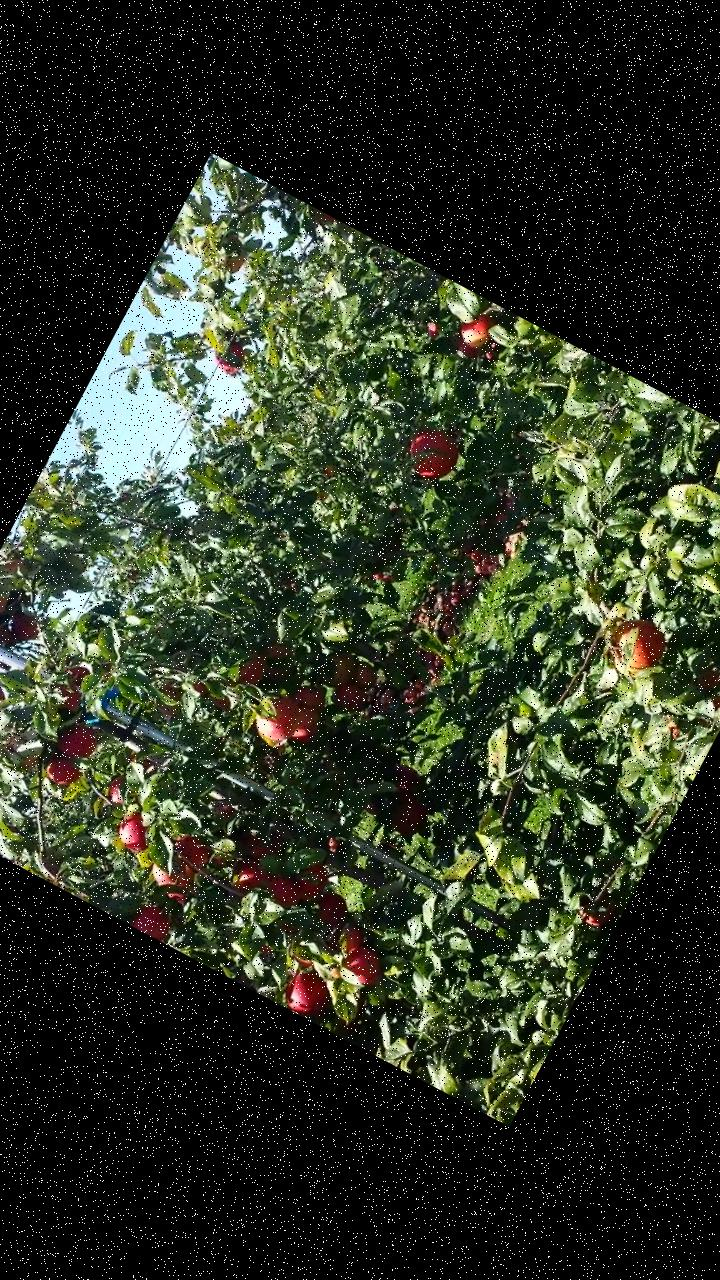Apple: (594, 603, 678, 689), (393, 416, 467, 491), (274, 956, 338, 1021), (245, 688, 308, 752), (334, 938, 394, 998), (106, 798, 162, 855), (50, 711, 106, 767), (371, 752, 426, 806), (572, 882, 627, 936), (222, 640, 274, 694), (36, 746, 90, 796), (451, 304, 502, 356), (380, 791, 432, 842), (222, 852, 275, 902), (312, 643, 363, 694), (684, 650, 719, 722), (142, 844, 192, 894), (322, 674, 372, 724), (308, 882, 358, 932), (145, 672, 193, 724), (204, 334, 254, 382), (259, 869, 309, 917), (165, 827, 215, 873), (288, 856, 333, 905), (286, 676, 336, 720), (1, 604, 47, 650), (284, 704, 328, 751), (324, 919, 369, 964), (130, 898, 176, 942), (98, 768, 140, 813), (253, 630, 298, 670), (0, 546, 38, 593), (52, 655, 96, 694), (241, 824, 282, 864), (346, 655, 386, 694), (42, 676, 84, 712), (446, 330, 486, 365), (119, 746, 158, 780), (200, 842, 236, 878), (417, 312, 449, 347), (654, 711, 689, 743), (283, 941, 317, 970), (0, 572, 19, 623), (184, 675, 215, 705), (219, 248, 248, 279), (158, 882, 190, 908), (0, 616, 22, 653), (474, 336, 503, 364), (174, 863, 200, 893), (0, 670, 15, 719), (14, 753, 39, 777), (209, 690, 234, 714), (212, 799, 236, 821), (320, 960, 344, 981)
